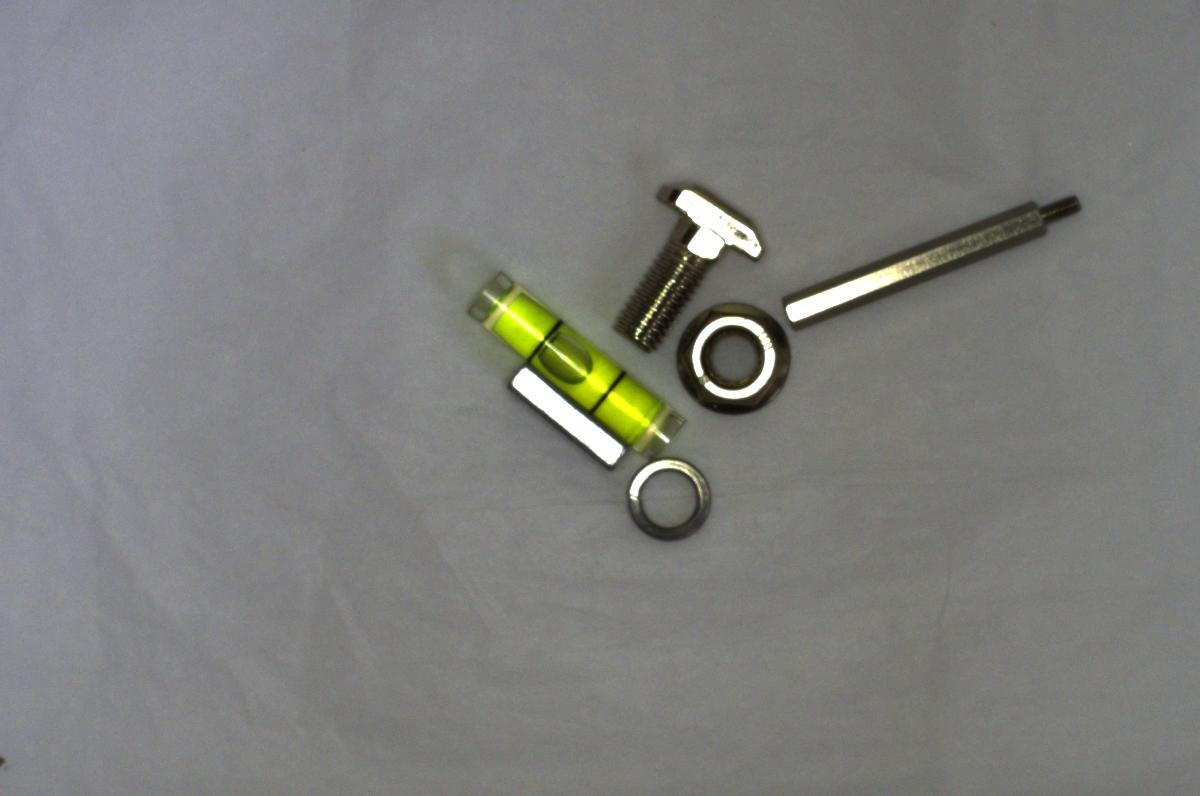Flange nut: (677, 299, 797, 416)
Hexagonal steel column: (781, 192, 1085, 333)
Horizontal bubble: (467, 263, 681, 458)
Rectangular nut: (506, 363, 628, 468)
Spring washer: (624, 459, 720, 546)
T-shaped screw: (607, 178, 768, 348)
